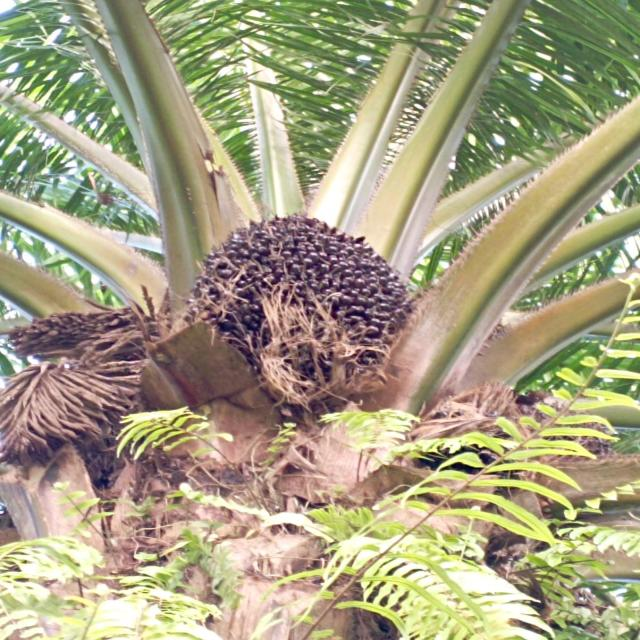fraksi 00: (158, 187, 448, 388)
